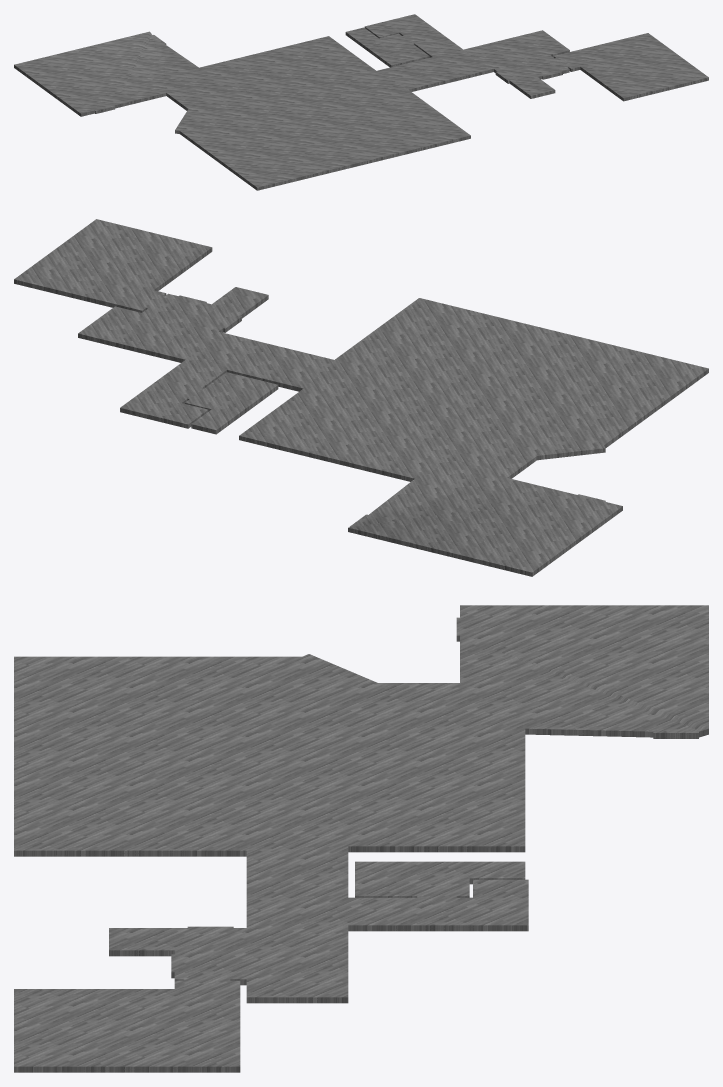
The model's file is 1989_kitchen_Floor_Pine.gltf.
The picture shows the model from 3 angles, top to bottom: view 1: azimuth 30°, elevation 25°; view 2: azimuth 150°, elevation 25°; view 3: azimuth 270°, elevation 25°; orthographic projection. The views are drawn at different scales.
Visible parts, largest first — view 1: Line23799; view 2: Line23799; view 3: Line23799.
Part boxes in pixels (box(x1,y1,x2,y2)): Line23799: box(14, 14, 708, 190); Line23799: box(14, 219, 708, 576); Line23799: box(14, 605, 708, 1072).
Bounding box in the file's own units: 33.3 × 0.3 × 21.2.
1 material, 1 textured.
